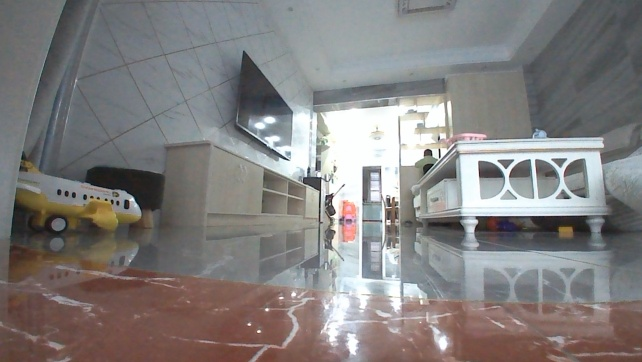TV_stand: (158, 138, 321, 225)
plastic_toy: (0, 156, 146, 235)
sofa1: (596, 118, 641, 241)
tea_table: (410, 130, 613, 236)
